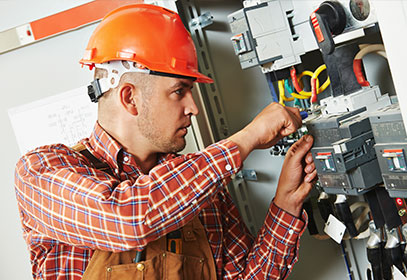Helmet: (78, 3, 215, 85)
